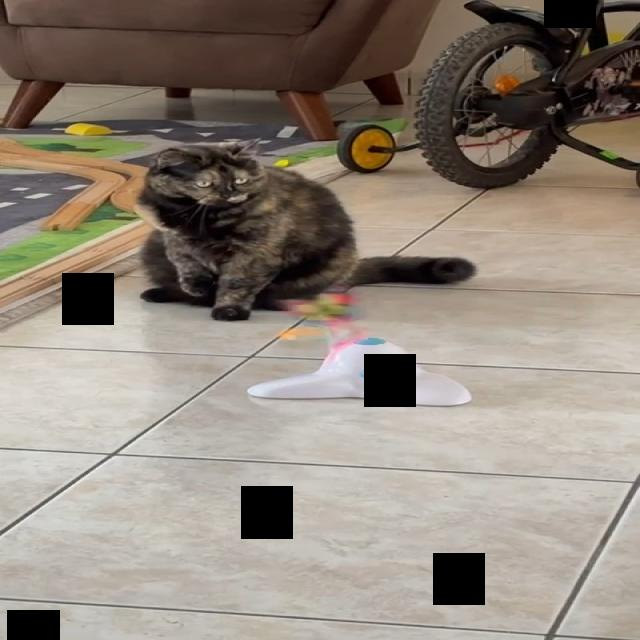authorized: (133, 136, 476, 322)
